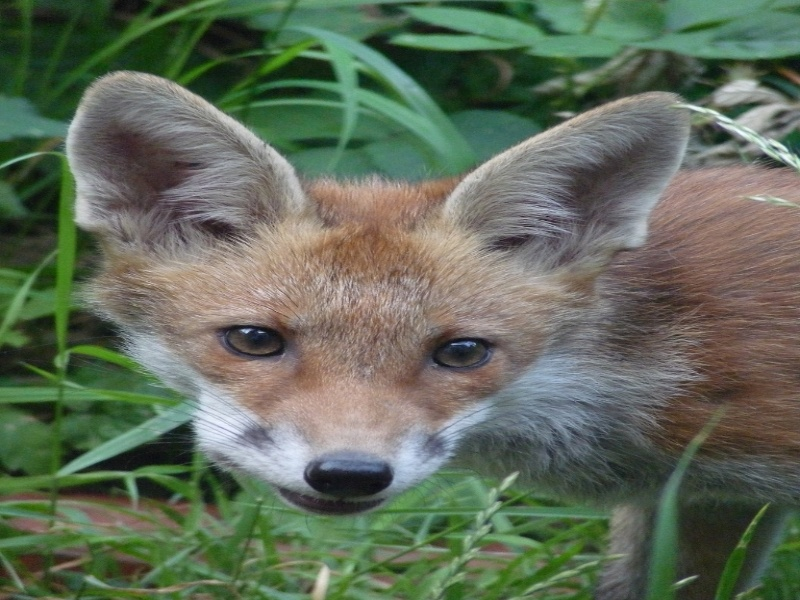fox: (64, 62, 800, 553)
